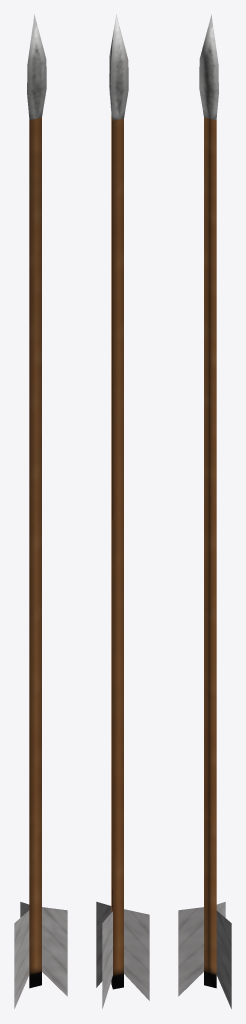
File: arrow.fbx
The picture shows the model from 3 angles, left to right: view 1: azimuth 30°, elevation 25°; view 2: azimuth 150°, elevation 25°; view 3: azimuth 330°, elevation 25°; orthographic projection.
Visible parts, largest first — view 1: Cylinder; view 2: Cylinder; view 3: Cylinder.
Boxes of the visible parts, x1,y1,x2,y2 form: Cylinder: [14, 14, 67, 1008]; Cylinder: [96, 14, 149, 1008]; Cylinder: [178, 14, 231, 1008].
Bounding box in the file's own units: 2.51 × 44.15 × 1.68.
